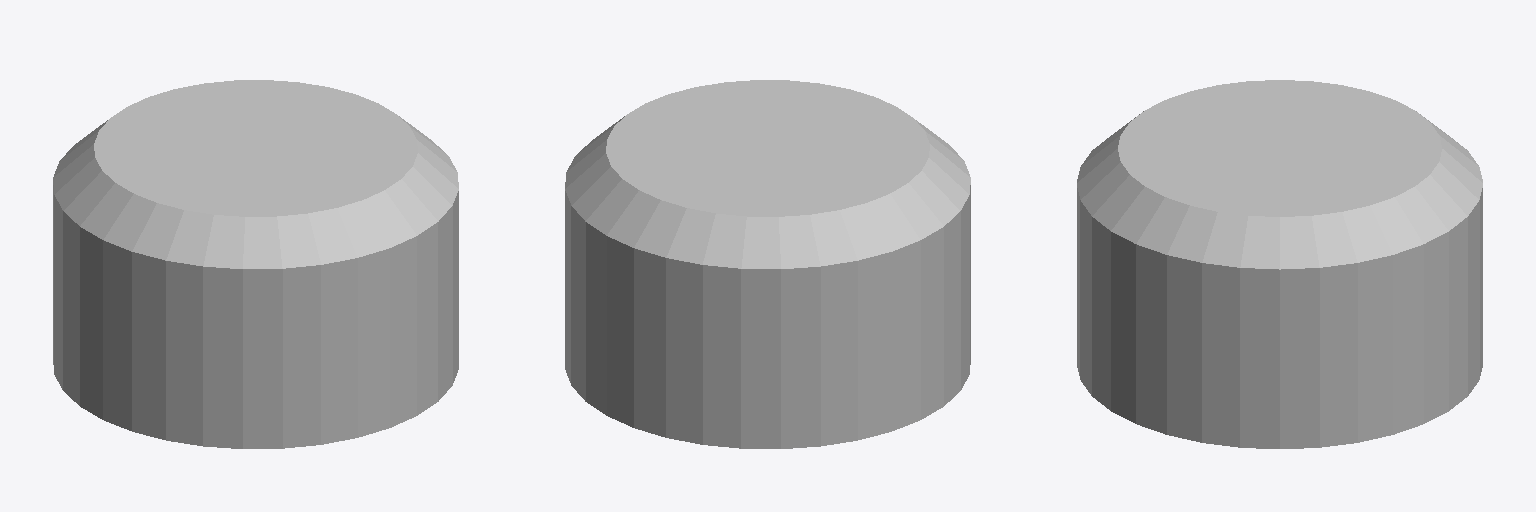
File: shell2.obj
3 renders of one model, left to right at view 1: azimuth 30°, elevation 25°; view 2: azimuth 150°, elevation 25°; view 3: azimuth 270°, elevation 25°, orthographic.
Visible parts, largest first — view 1: Cylinder.005; view 2: Cylinder.005; view 3: Cylinder.005.
Boxes of the visible parts, x1=… form: Cylinder.005: x1=53, y1=80, x2=458, y2=448; Cylinder.005: x1=565, y1=80, x2=970, y2=448; Cylinder.005: x1=1077, y1=80, x2=1482, y2=448.
Bounding box in the file's own units: 1 × 0.583 × 1.